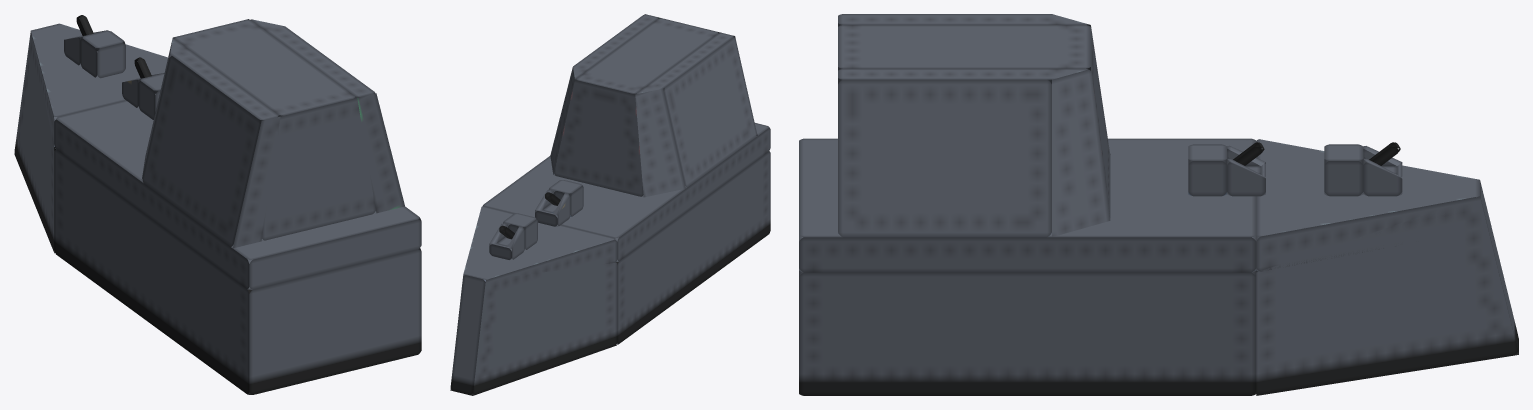
Rendered from destroyer.fbx.
The picture shows the model from 3 angles, left to right: view 1: azimuth 30°, elevation 25°; view 2: azimuth 150°, elevation 25°; view 3: azimuth 270°, elevation 25°; orthographic projection. The views are drawn at different scales.
Parts seen in each view (by area): view 1: cube, cube_2, cube_1, cube_3, cube_4; view 2: cube, cube_2, cube_1, cube_3, cube_4; view 3: cube, cube_2, cube_1, cube_3, cube_4.
Boxes of the visible parts, left/top/right/bottom form: cube: left=14, top=31, right=421, bottom=394; cube_2: left=141, top=19, right=404, bottom=248; cube_1: left=31, top=23, right=421, bottom=289; cube_3: left=64, top=30, right=125, bottom=78; cube_4: left=122, top=73, right=164, bottom=119; cube: left=450, top=151, right=770, bottom=395; cube_2: left=550, top=14, right=757, bottom=197; cube_1: left=463, top=123, right=770, bottom=282; cube_3: left=489, top=213, right=537, bottom=259; cube_4: left=535, top=180, right=583, bottom=226; cube: left=799, top=180, right=1518, bottom=395; cube_2: left=838, top=14, right=1110, bottom=237; cube_1: left=799, top=138, right=1479, bottom=272; cube_3: left=1324, top=144, right=1402, bottom=196; cube_4: left=1188, top=144, right=1265, bottom=196.
Size of the model in its own units: 75 by 106 by 231.
Materials: 1 (1 with a texture image).
